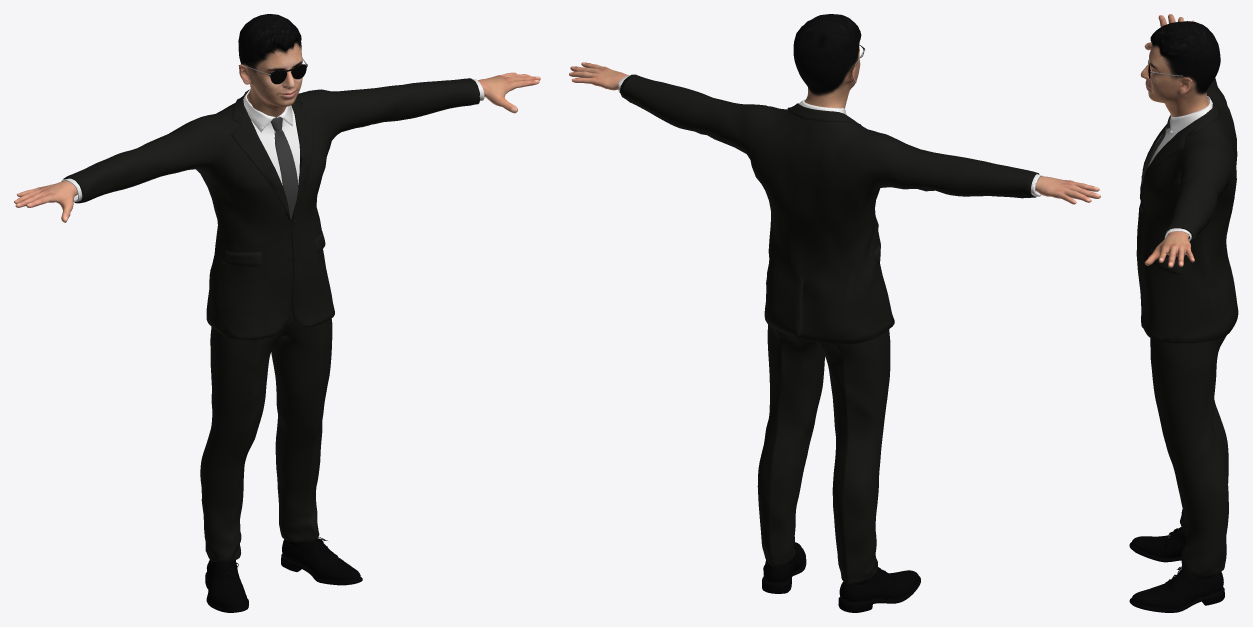
The model's file is avatar.glb.
The picture shows the model from 3 angles, left to right: view 1: azimuth 30°, elevation 25°; view 2: azimuth 150°, elevation 25°; view 3: azimuth 270°, elevation 25°; orthographic projection. The views are drawn at different scales.
Visible parts, largest first — view 1: outfit, AvatarHead, AvatarBody; view 2: outfit, AvatarHead, AvatarBody; view 3: outfit, AvatarHead, AvatarBody.
Part boxes in pixels (x1=…): outfit: x1=61, y1=78, x2=484, y2=612; AvatarHead: x1=238, y1=14, x2=302, y2=117; AvatarBody: x1=14, y1=72, x2=540, y2=222; outfit: x1=618, y1=74, x2=1042, y2=612; AvatarHead: x1=793, y1=14, x2=861, y2=108; AvatarBody: x1=569, y1=62, x2=1100, y2=204; outfit: x1=1129, y1=78, x2=1238, y2=612; AvatarHead: x1=1140, y1=21, x2=1220, y2=116; AvatarBody: x1=1144, y1=14, x2=1194, y2=267.
Bounding box in the file's own units: 1.76 × 1.81 × 0.3219.
Materials: 9 (8 with a texture image).
